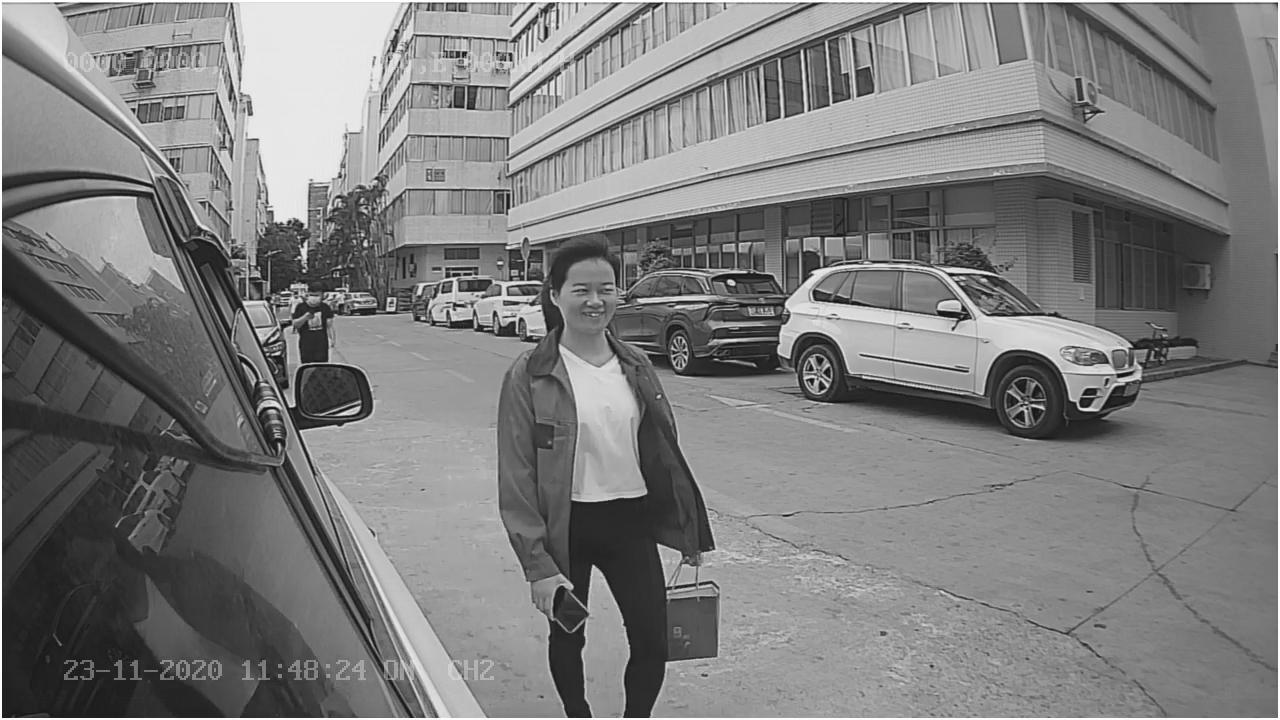person: (474, 227, 728, 615)
